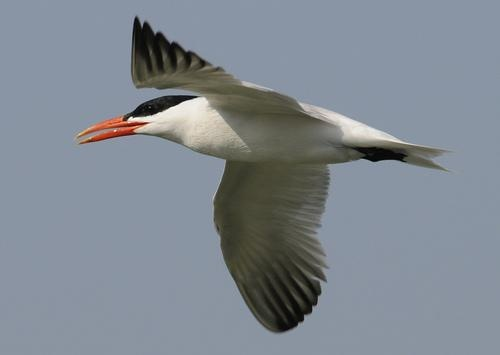bird: (71, 12, 455, 334)
